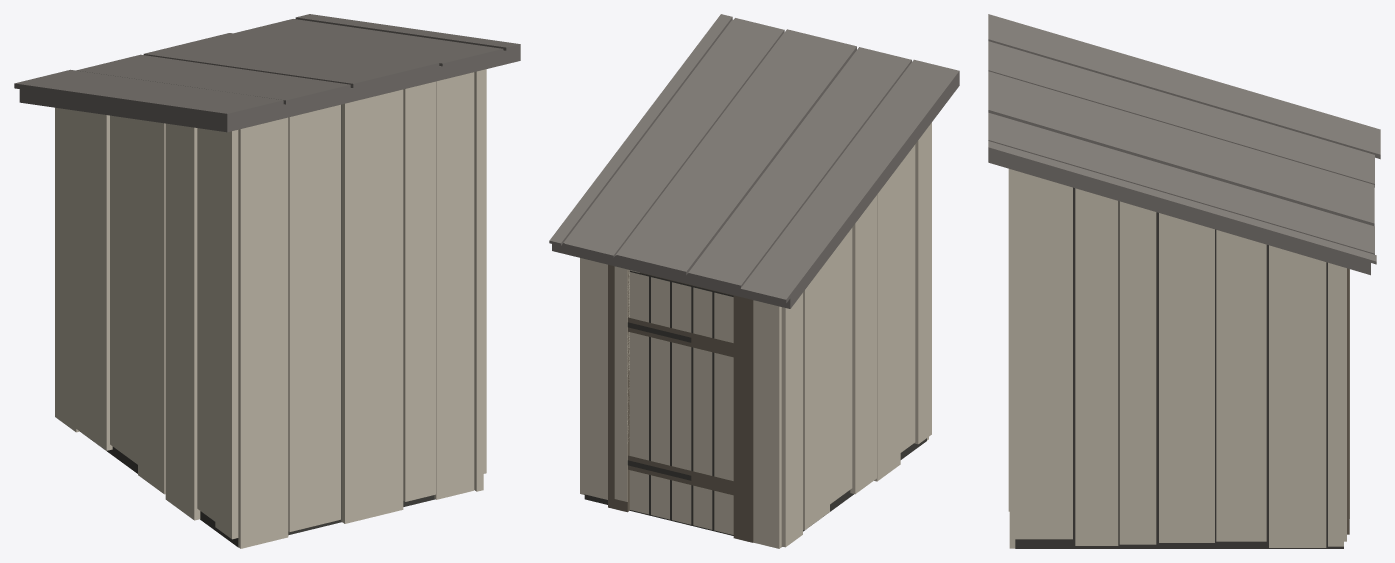
Rendered from recon_1835_blk_washington_clark_a3_10__inferred_1835.glb.
3 renders of one model, left to right at view 1: azimuth 30°, elevation 25°; view 2: azimuth 150°, elevation 25°; view 3: azimuth 270°, elevation 25°, orthographic. The views are drawn at different scales.
Parts seen in each view (by area): view 1: recon_1835_blk_washington_clark_a3_10__inferred_1835; view 2: recon_1835_blk_washington_clark_a3_10__inferred_1835; view 3: recon_1835_blk_washington_clark_a3_10__inferred_1835.
Part boxes in pixels (left/top/right/bottom): recon_1835_blk_washington_clark_a3_10__inferred_1835: left=14, top=14, right=520, bottom=548; recon_1835_blk_washington_clark_a3_10__inferred_1835: left=549, top=14, right=959, bottom=548; recon_1835_blk_washington_clark_a3_10__inferred_1835: left=988, top=14, right=1380, bottom=548.
Size of the model in its own units: 1.94 by 2.84 by 2.44.
